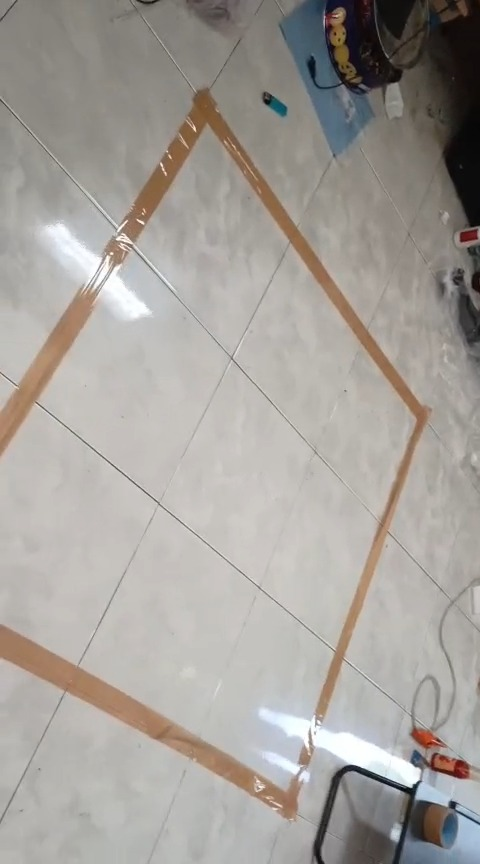floor marking: (0, 89, 429, 817)
